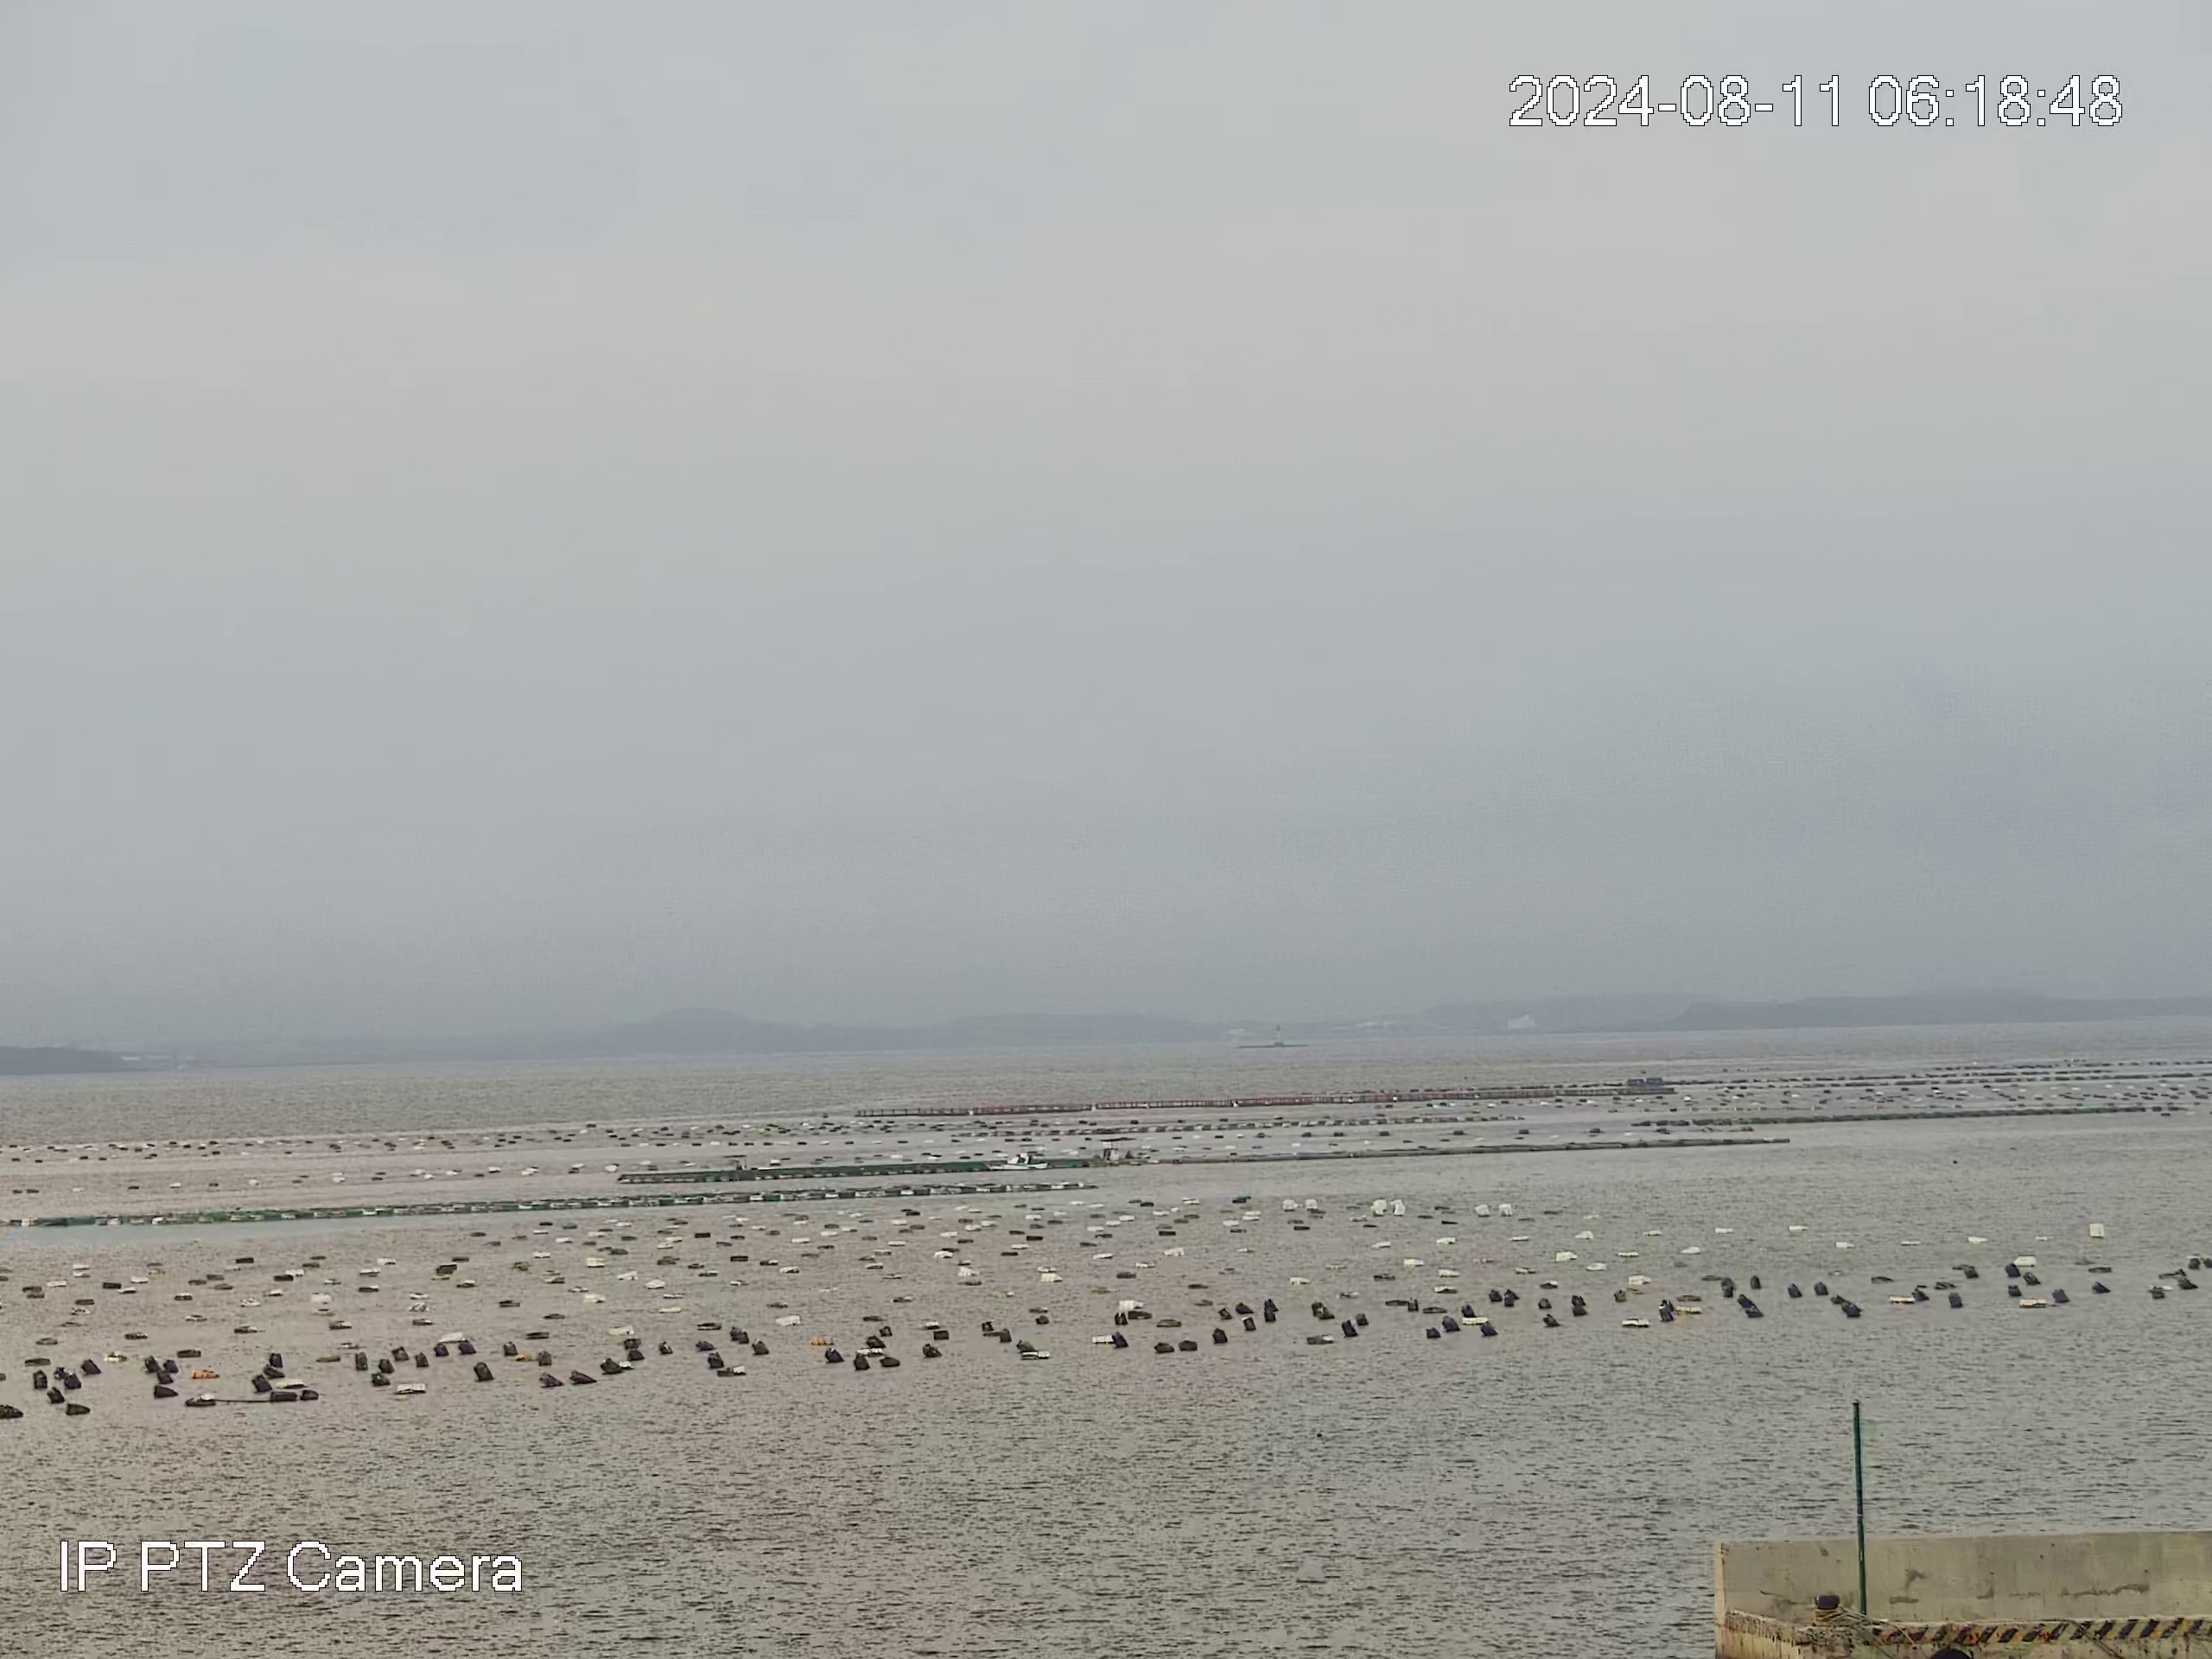boat: (981, 1148, 1052, 1173)
